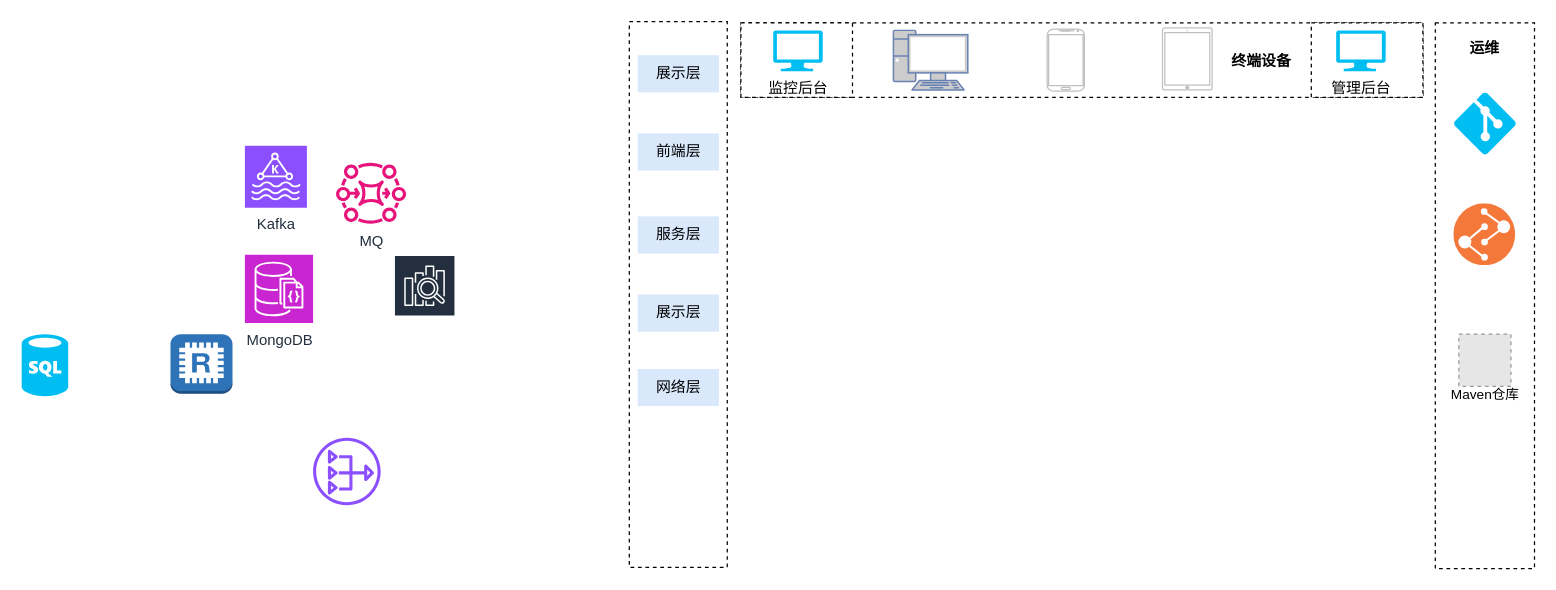
Image size: 1556x590. Some labels were removed from this diagram. Grey dashed boxes stand in for pictures. The shapes that lost their labels are listed below. From the top down, each one's box as (x1, y1, x2, y2) in pixels, then its label:
(1453, 92, 1515, 154): Git/Svn
(1453, 203, 1515, 265): Jenkins
(392, 254, 456, 342): ES
(21, 334, 68, 396): 达梦
(169, 333, 232, 394): Redis
(312, 437, 380, 505): Nginx
